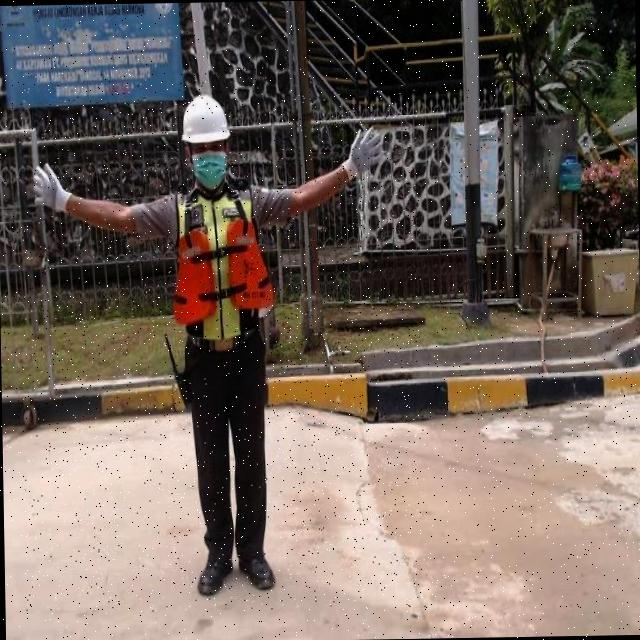boots: (234, 538, 278, 596), (195, 542, 235, 600)
helmet: (180, 92, 230, 144)
vest: (172, 178, 274, 342)
